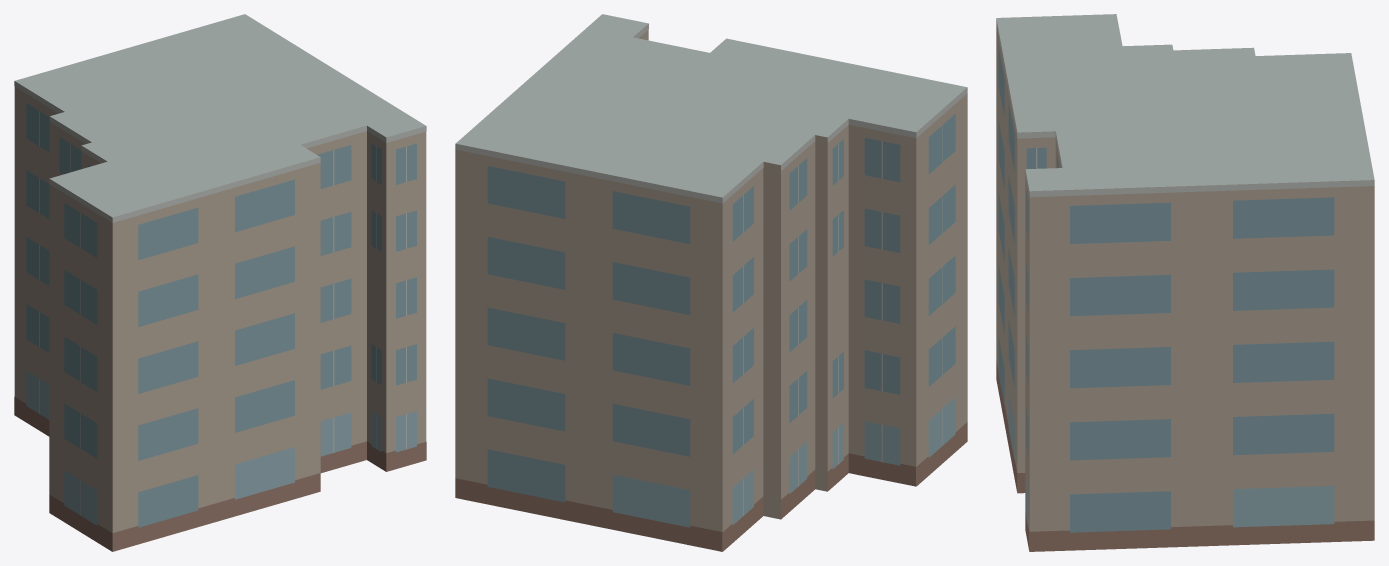
The model's file is survey-upis-32743363.glb.
3 views of the same model, side by side, from view 1: azimuth 30°, elevation 25°; view 2: azimuth 150°, elevation 25°; view 3: azimuth 270°, elevation 25° (orthographic). The views are drawn at different scales.
Visible parts, largest first — view 1: survey-upis-32743363.tmp; view 2: survey-upis-32743363.tmp; view 3: survey-upis-32743363.tmp.
Part boxes in pixels (x1,y1,x2,y2): survey-upis-32743363.tmp: (14, 14, 426, 551); survey-upis-32743363.tmp: (455, 14, 967, 551); survey-upis-32743363.tmp: (996, 14, 1374, 551).
Size of the model in its own units: 15.5 by 14.7 by 13.99.
